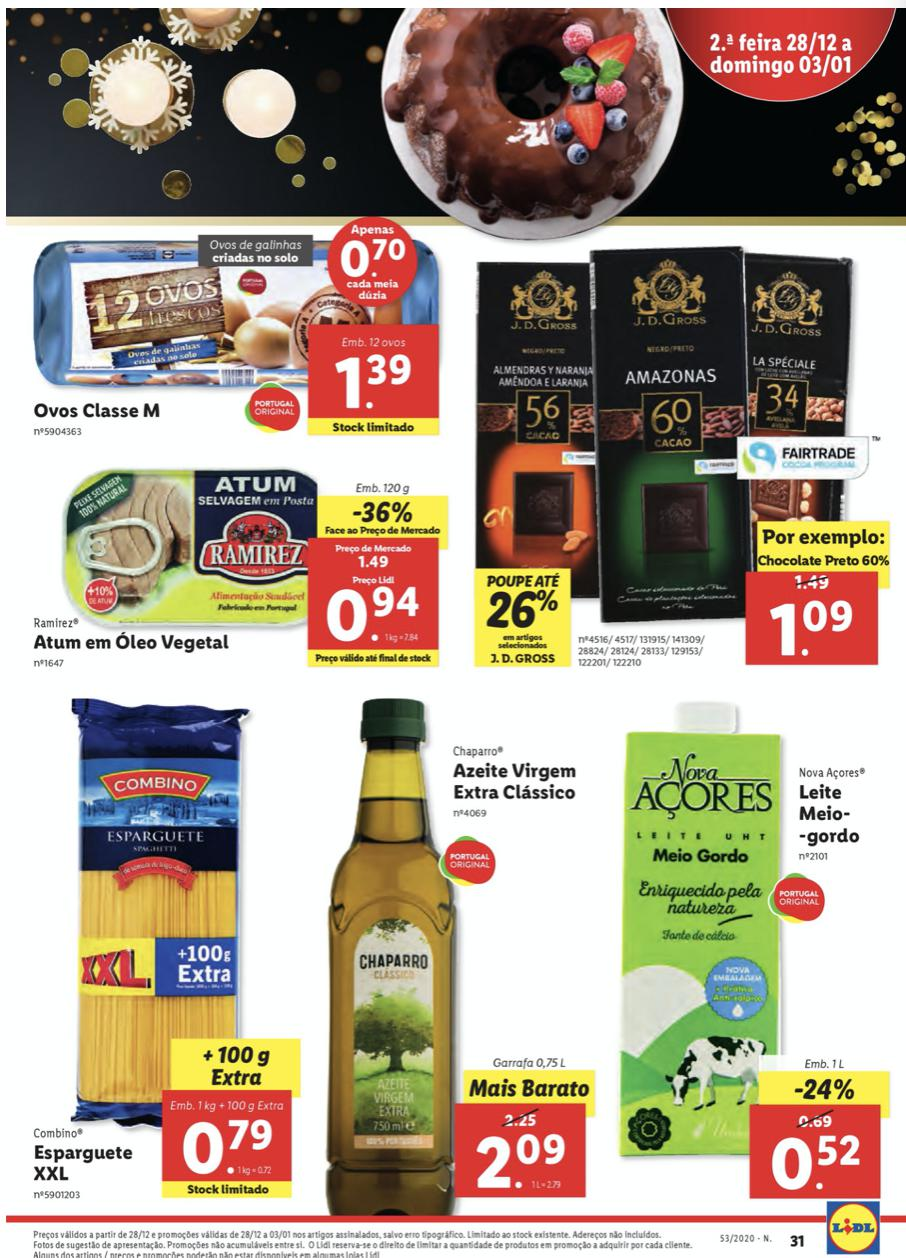name: (449, 761, 579, 806), (29, 628, 235, 655), (792, 781, 871, 850), (24, 1140, 135, 1183), (31, 398, 167, 423)
price: (307, 326, 438, 422), (162, 1090, 292, 1183), (453, 1126, 592, 1201), (745, 1128, 884, 1201), (745, 590, 879, 665), (307, 578, 440, 651)
product: (468, 250, 890, 678), (303, 692, 603, 1211), (12, 689, 303, 1211), (603, 692, 895, 1209), (10, 442, 456, 676), (13, 228, 456, 442)
promotion: (479, 586, 570, 639), (790, 1072, 857, 1106), (345, 497, 417, 526)
